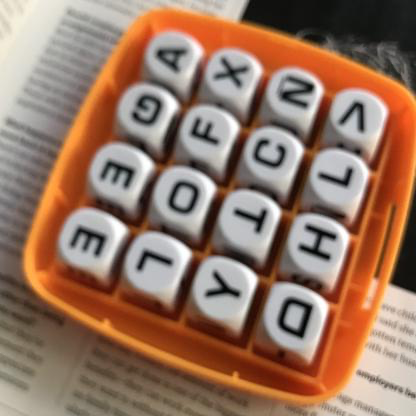a: (148, 34, 194, 77)
c: (251, 130, 293, 178)
d: (273, 286, 324, 351)
e: (91, 147, 143, 196), (65, 215, 113, 263)
f: (184, 109, 229, 154)
g: (126, 84, 168, 131)
h: (293, 212, 347, 271)
l: (130, 235, 177, 284), (314, 153, 361, 200)
n: (275, 64, 318, 114)
o: (165, 172, 207, 224)
t: (225, 191, 277, 245)
v: (335, 93, 376, 140)
x: (211, 50, 257, 101)
y: (202, 261, 248, 316)
